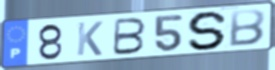5: (153, 14, 185, 53)
8: (37, 23, 63, 61)
B: (227, 8, 267, 48), (111, 17, 148, 57)
K: (75, 20, 104, 57)
S: (186, 10, 231, 52)
